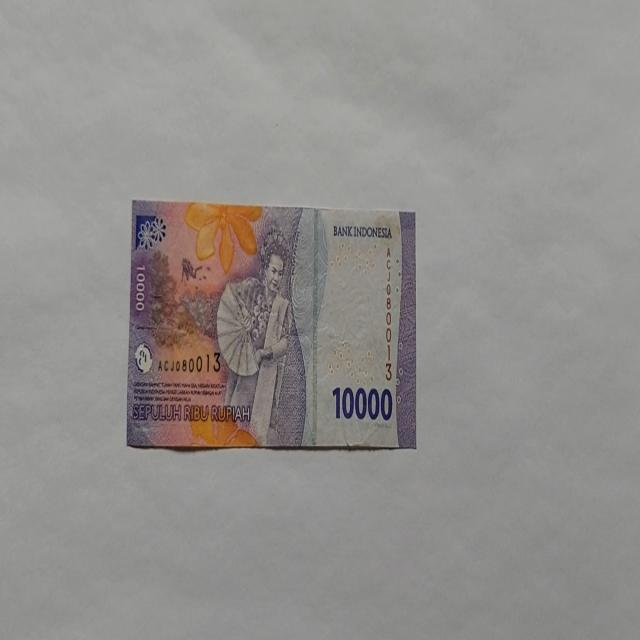sepuluh ribu rupiah: (126, 199, 417, 452)
